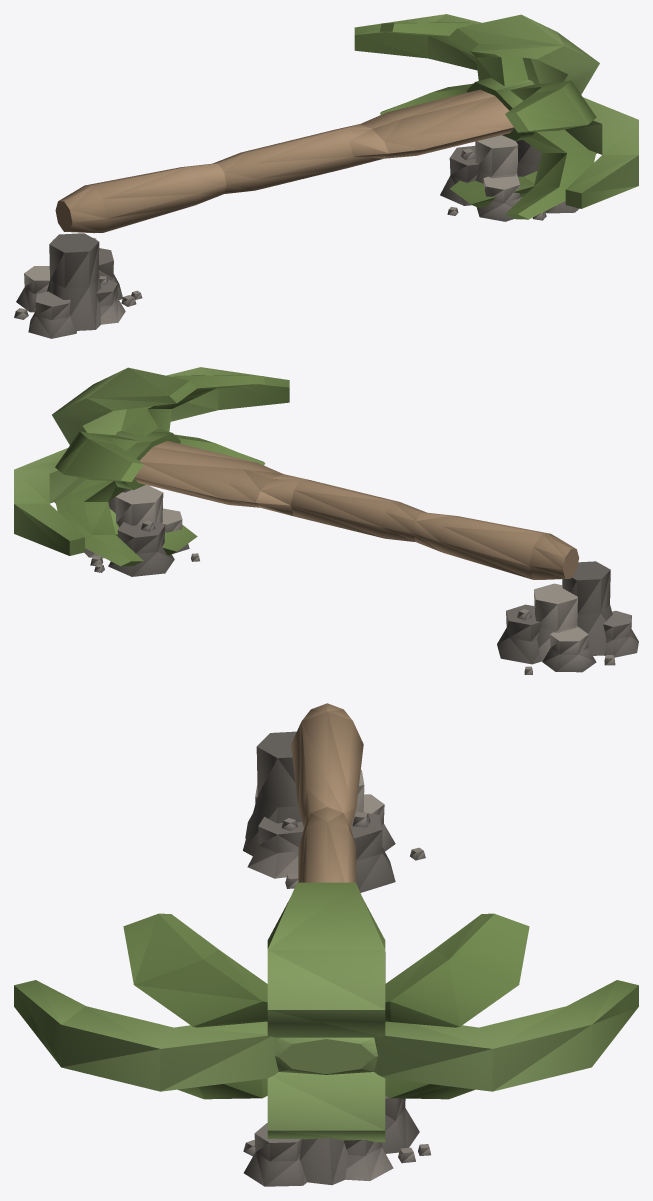
Rendered from K_Palm_Raised.glb.
3 renders of one model, top to bottom at view 1: azimuth 30°, elevation 25°; view 2: azimuth 150°, elevation 25°; view 3: azimuth 270°, elevation 25°, orthographic. The views are drawn at different scales.
Visible parts, largest first — view 1: K_Palm_Raised; view 2: K_Palm_Raised; view 3: K_Palm_Raised.
Boxes of the visible parts, bbox=[...] form: K_Palm_Raised: bbox=[14, 14, 638, 338]; K_Palm_Raised: bbox=[14, 367, 638, 674]; K_Palm_Raised: bbox=[14, 703, 638, 1186].
Size of the model in its own units: 11.45 by 3.35 by 7.94.
